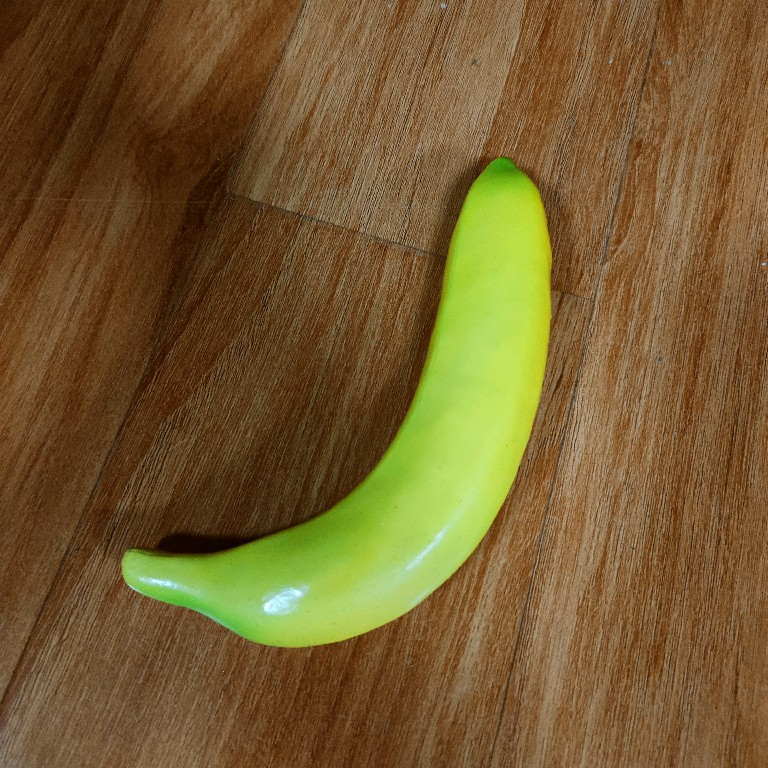fruit_banana: (116, 150, 559, 653)
